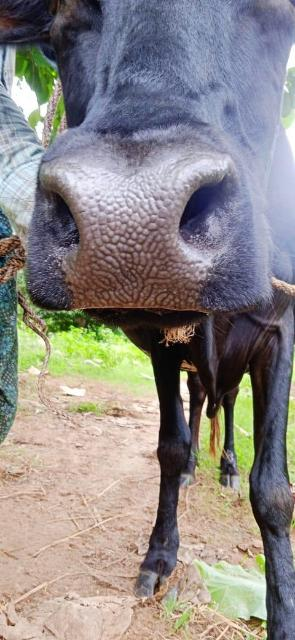Muzzle: (45, 164, 209, 314)
